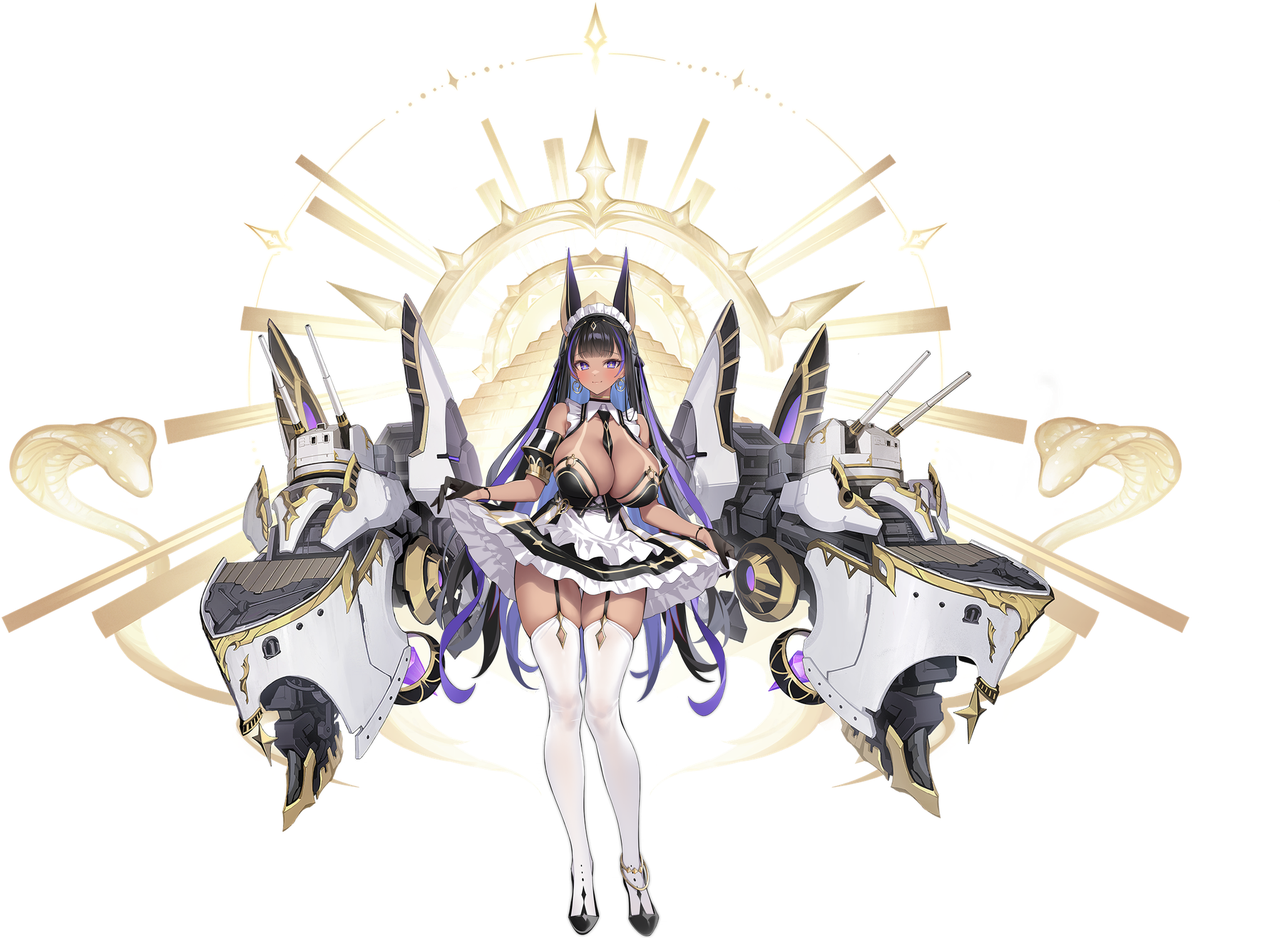person: (431, 275, 749, 937)
